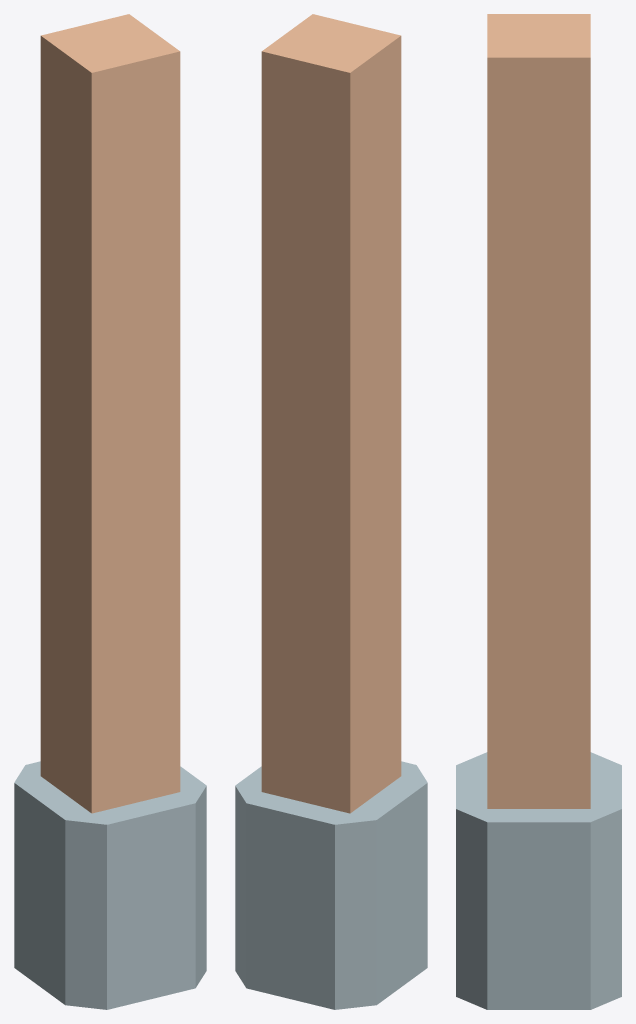
Rendered from pillarWood.glb.
3 views of the same model, side by side, from view 1: azimuth 30°, elevation 25°; view 2: azimuth 150°, elevation 25°; view 3: azimuth 270°, elevation 25° (orthographic).
Parts seen in each view (by area): view 1: pillarWood; view 2: pillarWood; view 3: pillarWood.
Boxes of the visible parts, bbox=[...] form: pillarWood: bbox=[14, 14, 206, 1009]; pillarWood: bbox=[235, 14, 427, 1009]; pillarWood: bbox=[456, 14, 621, 1009].
Bounding box in the file's own units: 0.16 × 1 × 0.16.
